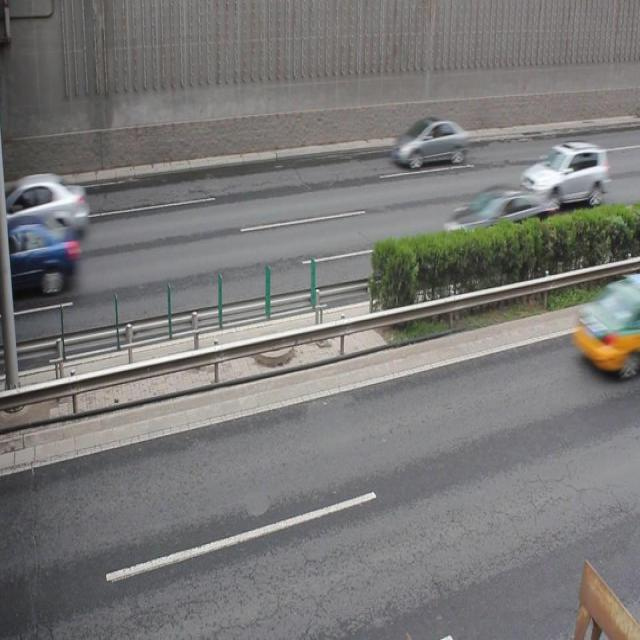car: (439, 181, 558, 263), (570, 279, 640, 376), (517, 137, 606, 211), (1, 215, 80, 295), (1, 171, 89, 237), (391, 113, 468, 169)
